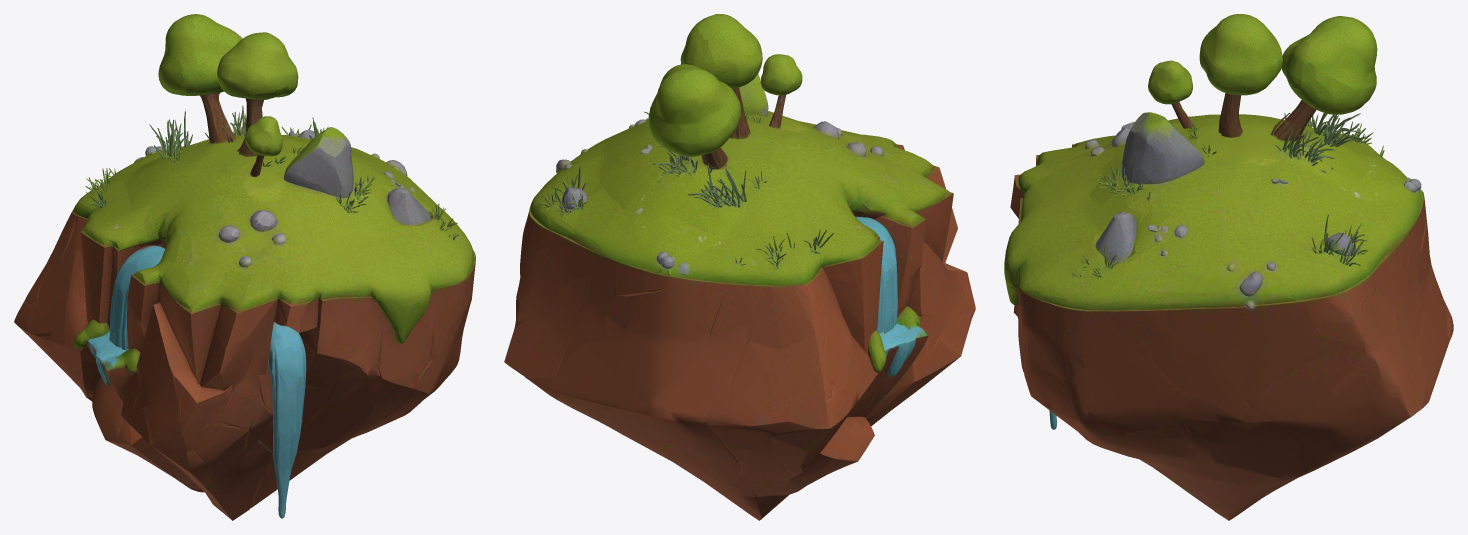
Rendered from island.glb.
The picture shows the model from 3 angles, left to right: view 1: azimuth 30°, elevation 25°; view 2: azimuth 150°, elevation 25°; view 3: azimuth 270°, elevation 25°; orthographic projection. The views are drawn at different scales.
Parts seen in each view (by area): view 1: Mesh_0; view 2: Mesh_0; view 3: Mesh_0.
Part boxes in pixels (x1,y1,x2,y2): Mesh_0: (14,14,475,520); Mesh_0: (504,14,975,520); Mesh_0: (1004,14,1453,520).
Bounding box in the file's own units: 1.38 × 1.9 × 1.49.
1 material, 1 textured.
